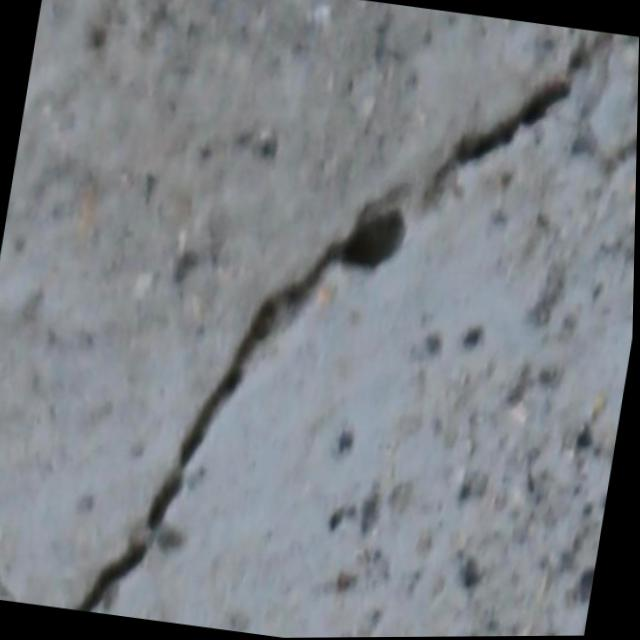Crack: (59, 0, 612, 640)
